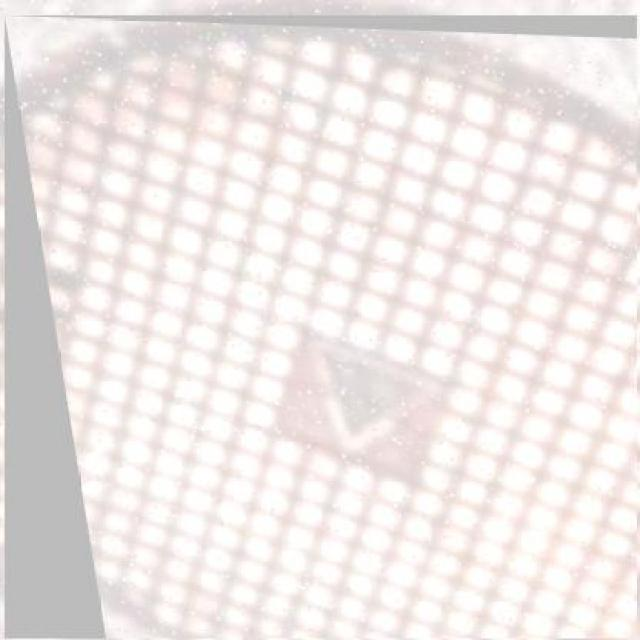Manhole: (5, 16, 638, 638)
